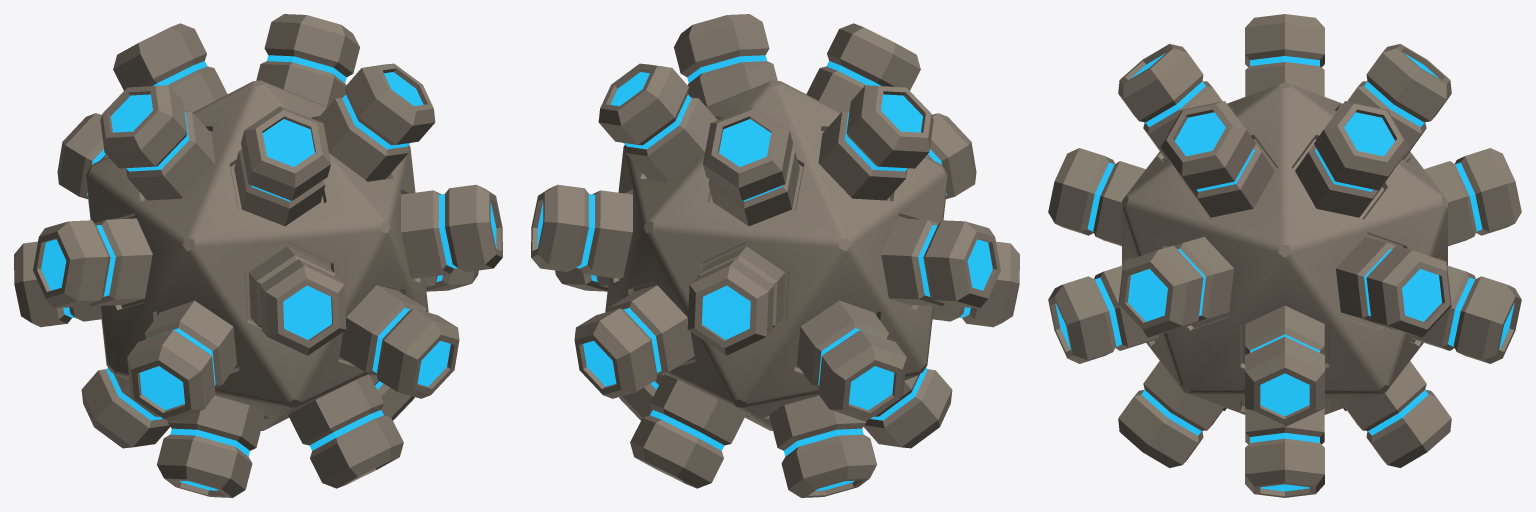
The model's file is orb.glb.
3 renders of one model, left to right at view 1: azimuth 30°, elevation 25°; view 2: azimuth 150°, elevation 25°; view 3: azimuth 270°, elevation 25°, orthographic.
Parts seen in each view (by area): view 1: Icosphere; view 2: Icosphere; view 3: Icosphere.
Boxes of the visible parts, bbox=[...] form: Icosphere: bbox=[14, 14, 502, 497]; Icosphere: bbox=[531, 14, 1019, 497]; Icosphere: bbox=[1048, 14, 1521, 497].
Bounding box in the file's own units: 2.6 × 2.28 × 2.54.
